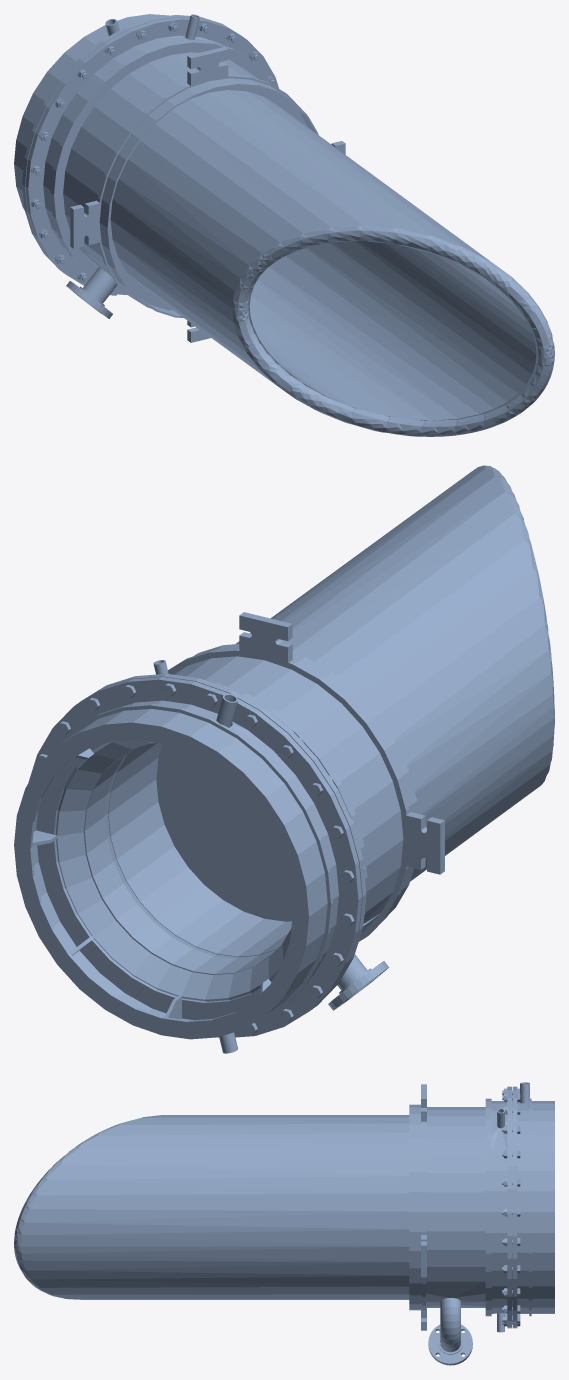
The model's file is lance_thimble.glb.
3 views of the same model, one above another, from view 1: azimuth 30°, elevation 25°; view 2: azimuth 150°, elevation 25°; view 3: azimuth 270°, elevation 25° (orthographic). The views are drawn at different scales.
Visible parts, largest first — view 1: part_43, part_55, part_19, part_15, part_18, part_56, part_32, part_1, part_17, part_13, part_42, part_41 (+2 smaller); view 2: part_43, part_32, part_0, part_19, part_20, part_13, part_12, part_10, part_1, part_14, part_11, part_56 (+5 smaller); view 3: part_43, part_19, part_1, part_17, part_56, part_11, part_18, part_13, part_15, part_38, part_36, part_10 (+2 smaller).
Part boxes in pixels (x1,y1,x2,y2): part_43: (110, 90, 554, 436); part_55: (248, 241, 538, 420); part_19: (63, 52, 257, 276); part_15: (25, 17, 278, 294); part_18: (50, 40, 270, 288); part_56: (99, 78, 318, 317); part_32: (97, 74, 307, 310); part_1: (15, 15, 164, 207); part_17: (43, 35, 221, 251); part_13: (22, 15, 242, 271); part_42: (187, 47, 228, 85); part_41: (70, 200, 100, 248); part_43: (235, 465, 554, 881); part_32: (156, 648, 409, 941); part_0: (14, 721, 310, 1039); part_19: (173, 656, 403, 932); part_20: (108, 743, 291, 956); part_13: (28, 677, 362, 1037); part_12: (55, 740, 291, 1001); part_10: (36, 704, 332, 1020); part_1: (32, 708, 327, 1020); part_14: (83, 751, 273, 974); part_11: (125, 700, 338, 976); part_56: (193, 644, 418, 914); part_43: (14, 1115, 409, 1299); part_19: (426, 1107, 485, 1307); part_1: (531, 1101, 552, 1313); part_17: (491, 1101, 507, 1313); part_56: (409, 1104, 422, 1310); part_11: (517, 1102, 529, 1313); part_18: (485, 1098, 491, 1316); part_13: (512, 1086, 517, 1328); part_15: (507, 1086, 512, 1328); part_38: (428, 1324, 472, 1365); part_36: (440, 1300, 460, 1347); part_10: (529, 1098, 531, 1316).
Size of the model in its own units: 1.13 by 1.19 by 2.4.
